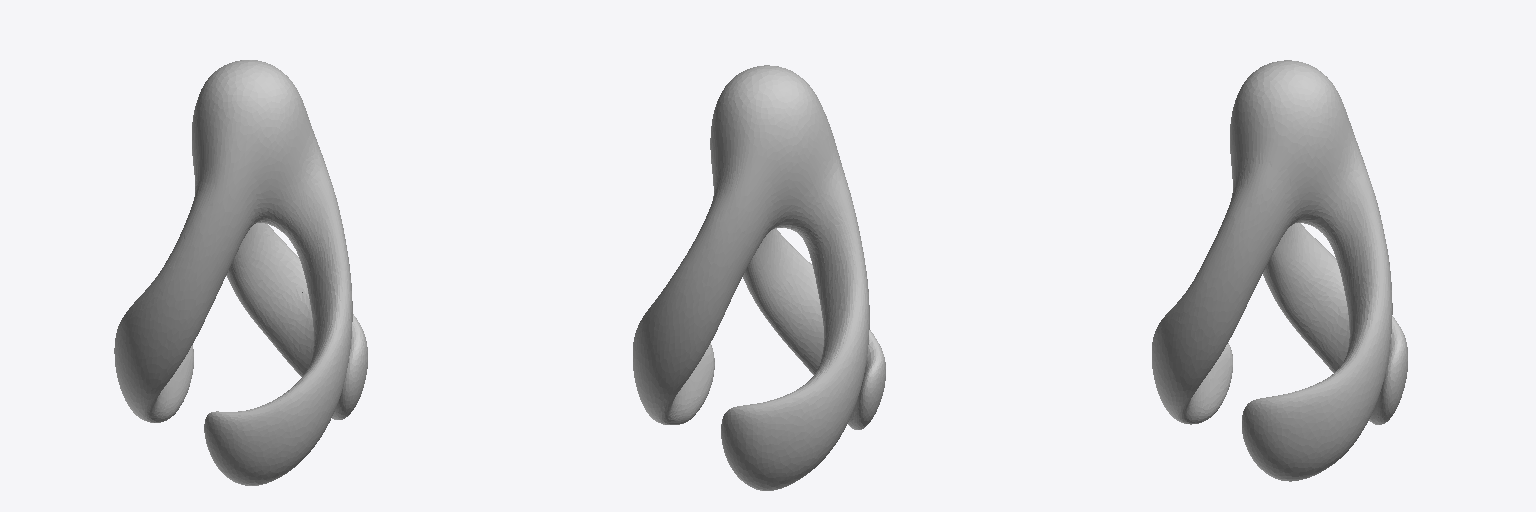
File: MOVE.02.obj
3 views of the same model, side by side, from view 1: azimuth 30°, elevation 25°; view 2: azimuth 150°, elevation 25°; view 3: azimuth 270°, elevation 25° (orthographic).
Visible parts, largest first — view 1: Quad_Sphere; view 2: Quad_Sphere; view 3: Quad_Sphere.
Part boxes in pixels (left/top/right/bottom): Quad_Sphere: left=114, top=60, right=367, bottom=485; Quad_Sphere: left=633, top=65, right=885, bottom=490; Quad_Sphere: left=1152, top=60, right=1407, bottom=481.
Bounding box in the file's own units: 3.7 × 6 × 3.7.